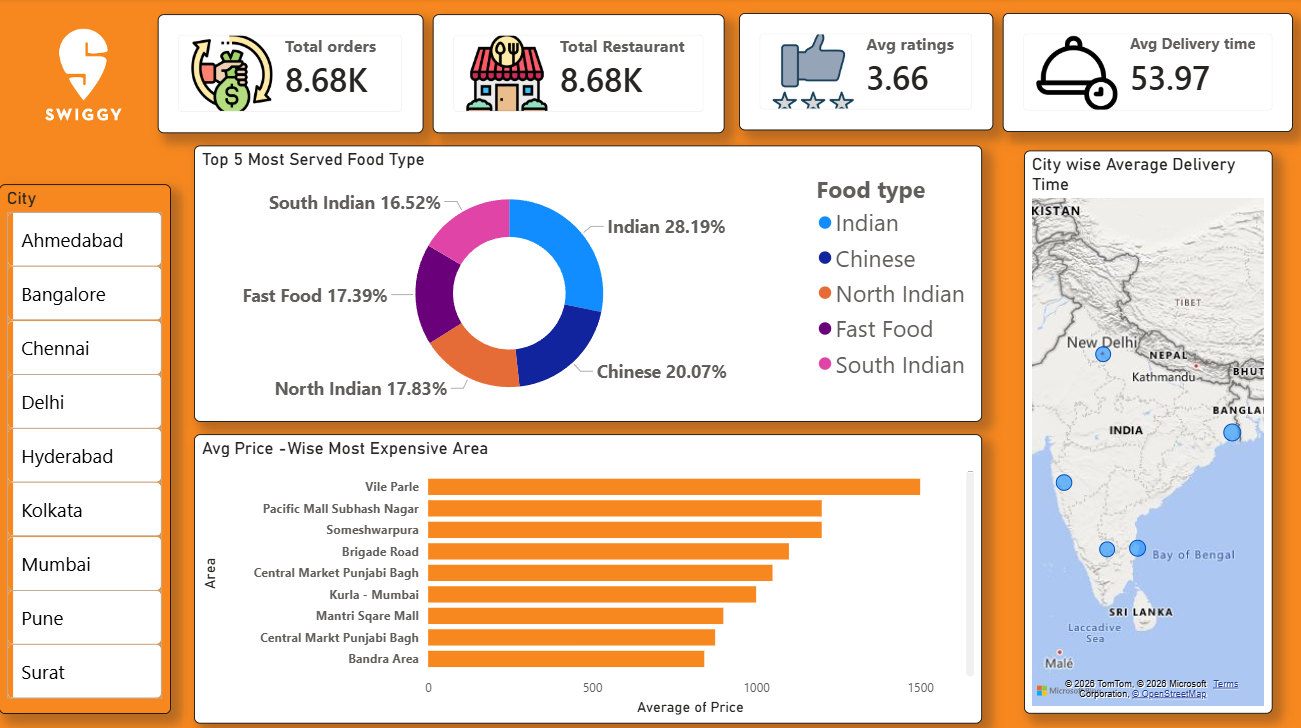

Layout of this report page (visuals, bound fields, positions):
{"tool":"powerbi","page":{"name":"Page 1","canvas":[1280,720],"ordinal":0},"visuals":[{"type":"image","box":[0,0,168.2,149.7],"z":0},{"type":"cardVisual","fields":{"Data":["CountNonNull(swiggy.ID)"]},"box":[155.4,15.7,260.8,116.9],"z":1000},{"type":"cardVisual","fields":{"Data":["CountNonNull(swiggy.Restaurant)"]},"box":[426.2,15.7,286.5,116.9],"z":2000},{"type":"cardVisual","fields":{"Data":["Avg(swiggy.Avg ratings)"]},"box":[725.5,14.3,249.4,116.9],"z":3000},{"type":"cardVisual","fields":{"Data":["Avg(swiggy.Delivery time)"]},"box":[984.9,14.3,285.1,116.9],"z":4000},{"type":"advancedSlicerVisual","fields":{"Values":["swiggy.City"]},"box":[0,166.8,168.2,520.3],"z":5000},{"type":"map","title":"City wise Average Delivery Time","fields":{"Size":["Avg(swiggy.Delivery time)"],"Category":["swiggy.City"]},"box":[1006.3,149.7,243.7,553.1],"z":6000},{"type":"donutChart","title":"Top 5 Most Served Food Type","fields":{"Category":["swiggy.Food type"],"Y":["CountNonNull(swiggy.ID)"]},"box":[191,145.4,774,270.8],"z":7000},{"type":"clusteredBarChart","title":" Avg Price -Wise Most Expensive Area","fields":{"Y":["Avg(swiggy.Price)"],"Category":["swiggy.Area"]},"box":[191,427.6,774,283.7],"z":8000}]}

Visuals, with their boxes in screenshot pixels (x1, y1, x2, y2), scaled from the page's 1280x720 canvas onto the 1301x728 screenshot:
image: box(0, 0, 171, 151)
cardVisual - CountNonNull(swiggy.ID): box(158, 16, 423, 134)
cardVisual - CountNonNull(swiggy.Restaurant): box(433, 16, 724, 134)
cardVisual - Avg(swiggy.Avg ratings): box(737, 14, 991, 133)
cardVisual - Avg(swiggy.Delivery time): box(1001, 14, 1291, 133)
advancedSlicerVisual - swiggy.City: box(0, 169, 171, 695)
"City wise Average Delivery Time" map: box(1023, 151, 1271, 711)
"Top 5 Most Served Food Type" donutChart: box(194, 147, 981, 421)
" Avg Price -Wise Most Expensive Area" clusteredBarChart: box(194, 432, 981, 719)
